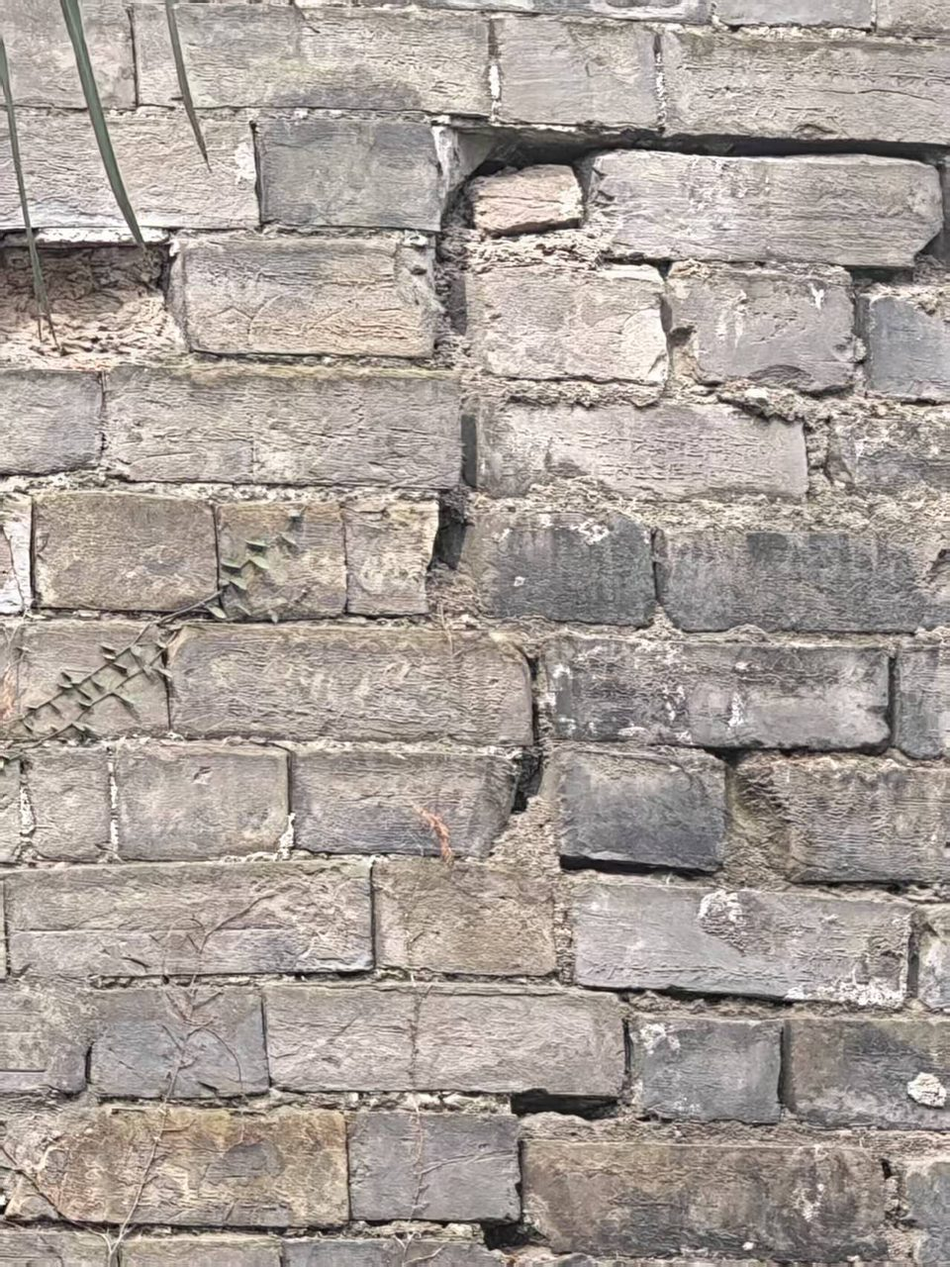crack: (372, 28, 626, 600)
